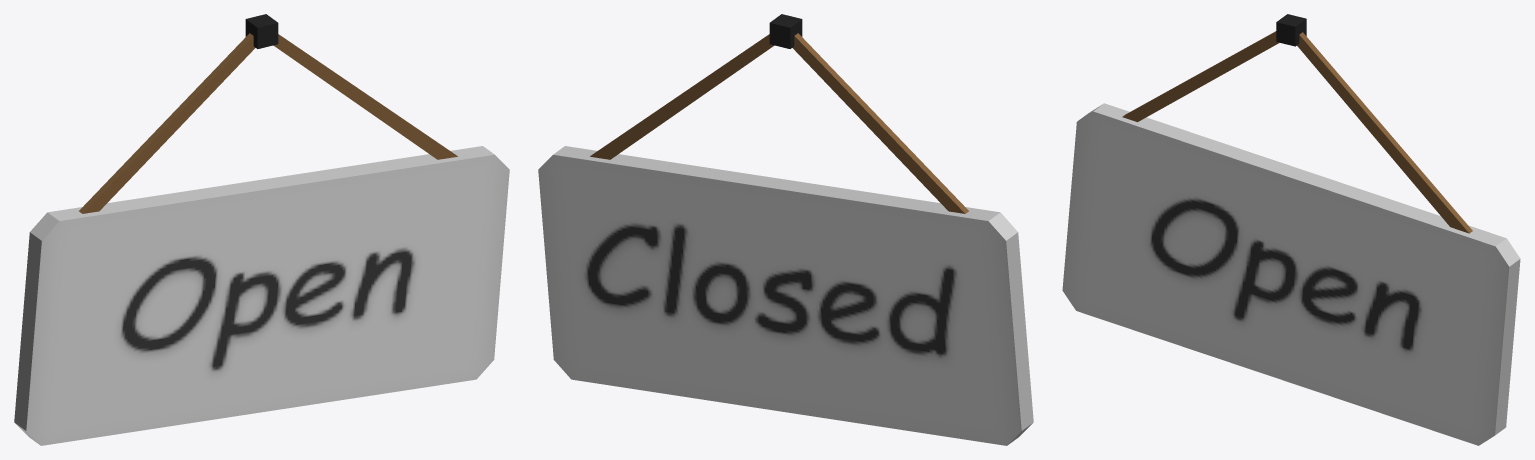
Rendered from sign_2.fbx.
3 renders of one model, left to right at view 1: azimuth 30°, elevation 25°; view 2: azimuth 150°, elevation 25°; view 3: azimuth 330°, elevation 25°, orthographic. The views are drawn at different scales.
Parts seen in each view (by area): view 1: sign_2; view 2: sign_2; view 3: sign_2.
Boxes of the visible parts, bbox=[...] form: sign_2: bbox=[14, 14, 509, 445]; sign_2: bbox=[538, 14, 1033, 445]; sign_2: bbox=[1062, 14, 1520, 445].
Bounding box in the file's own units: 38.72 × 31 × 1.67.
